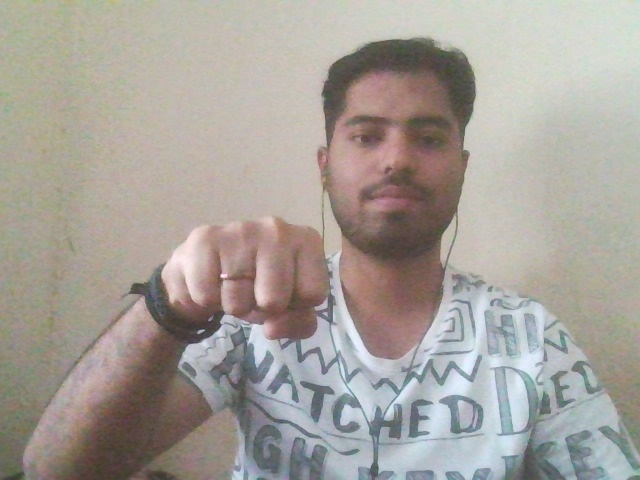Yes: (125, 203, 346, 360)
